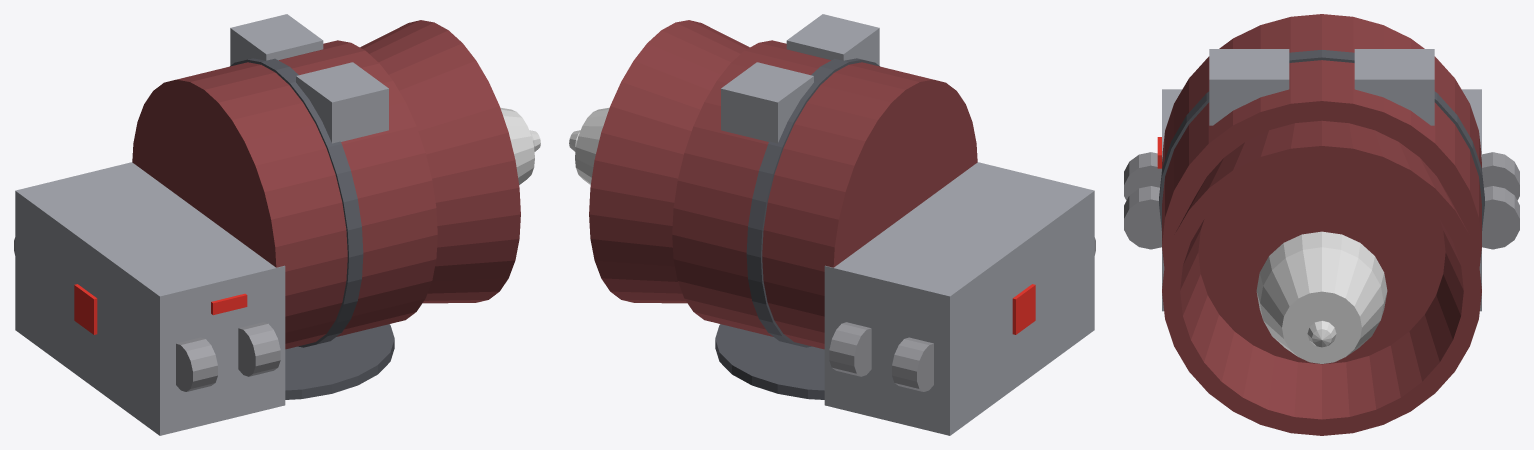
Rendered from vge_egun_anticraft_beam.obj.
3 renders of one model, left to right at view 1: azimuth 30°, elevation 25°; view 2: azimuth 150°, elevation 25°; view 3: azimuth 270°, elevation 25°, orthographic. The views are drawn at different scales.
Parts seen in each view (by area): view 1: vge_egun_anticraft_beam_7, vge_egun_anticraft_beam_1, vge_egun_anticraft_beam_11, vge_egun_anticraft_beam_0, vge_egun_anticraft_beam_9, vge_egun_anticraft_beam_8, vge_egun_anticraft_beam_10, vge_egun_anticraft_beam_3, vge_egun_anticraft_beam_2, vge_egun_anticraft_beam_12, vge_egun_anticraft_beam_14, vge_egun_anticraft_beam_15; view 2: vge_egun_anticraft_beam_7, vge_egun_anticraft_beam_1, vge_egun_anticraft_beam_11, vge_egun_anticraft_beam_0, vge_egun_anticraft_beam_10, vge_egun_anticraft_beam_8, vge_egun_anticraft_beam_9, vge_egun_anticraft_beam_5, vge_egun_anticraft_beam_4, vge_egun_anticraft_beam_12, vge_egun_anticraft_beam_14; view 3: vge_egun_anticraft_beam_11, vge_egun_anticraft_beam_7, vge_egun_anticraft_beam_12, vge_egun_anticraft_beam_9, vge_egun_anticraft_beam_10, vge_egun_anticraft_beam_8, vge_egun_anticraft_beam_3, vge_egun_anticraft_beam_5, vge_egun_anticraft_beam_4, vge_egun_anticraft_beam_2, vge_egun_anticraft_beam_1, vge_egun_anticraft_beam_13.
Boxes of the visible parts, x1,y1,x2,y2 form: vge_egun_anticraft_beam_7: (132, 40, 437, 349); vge_egun_anticraft_beam_1: (15, 162, 285, 435); vge_egun_anticraft_beam_11: (360, 20, 520, 303); vge_egun_anticraft_beam_0: (285, 324, 394, 399); vge_egun_anticraft_beam_9: (296, 62, 388, 143); vge_egun_anticraft_beam_8: (230, 58, 363, 347); vge_egun_anticraft_beam_10: (230, 14, 323, 65); vge_egun_anticraft_beam_3: (238, 322, 280, 376); vge_egun_anticraft_beam_2: (176, 337, 217, 391); vge_egun_anticraft_beam_12: (500, 107, 534, 184); vge_egun_anticraft_beam_14: (74, 284, 97, 334); vge_egun_anticraft_beam_15: (211, 293, 247, 315); vge_egun_anticraft_beam_7: (672, 40, 977, 349); vge_egun_anticraft_beam_1: (824, 162, 1094, 435); vge_egun_anticraft_beam_11: (589, 20, 749, 303); vge_egun_anticraft_beam_0: (715, 324, 824, 399); vge_egun_anticraft_beam_10: (721, 62, 813, 143); vge_egun_anticraft_beam_8: (746, 58, 879, 347); vge_egun_anticraft_beam_9: (786, 14, 879, 65); vge_egun_anticraft_beam_5: (829, 322, 871, 376); vge_egun_anticraft_beam_4: (892, 337, 933, 391); vge_egun_anticraft_beam_12: (575, 107, 609, 184); vge_egun_anticraft_beam_14: (1012, 284, 1035, 334); vge_egun_anticraft_beam_11: (1162, 120, 1481, 435); vge_egun_anticraft_beam_7: (1162, 14, 1481, 267); vge_egun_anticraft_beam_12: (1256, 231, 1387, 363); vge_egun_anticraft_beam_9: (1209, 49, 1289, 125); vge_egun_anticraft_beam_10: (1354, 49, 1434, 125); vge_egun_anticraft_beam_8: (1159, 50, 1484, 230); vge_egun_anticraft_beam_3: (1124, 186, 1161, 249); vge_egun_anticraft_beam_5: (1482, 186, 1519, 249); vge_egun_anticraft_beam_4: (1482, 152, 1519, 200); vge_egun_anticraft_beam_2: (1124, 152, 1161, 200); vge_egun_anticraft_beam_1: (1162, 89, 1481, 311); vge_egun_anticraft_beam_13: (1307, 320, 1336, 347).
Size of the model in its own units: 8 by 4.7 by 5.44.
